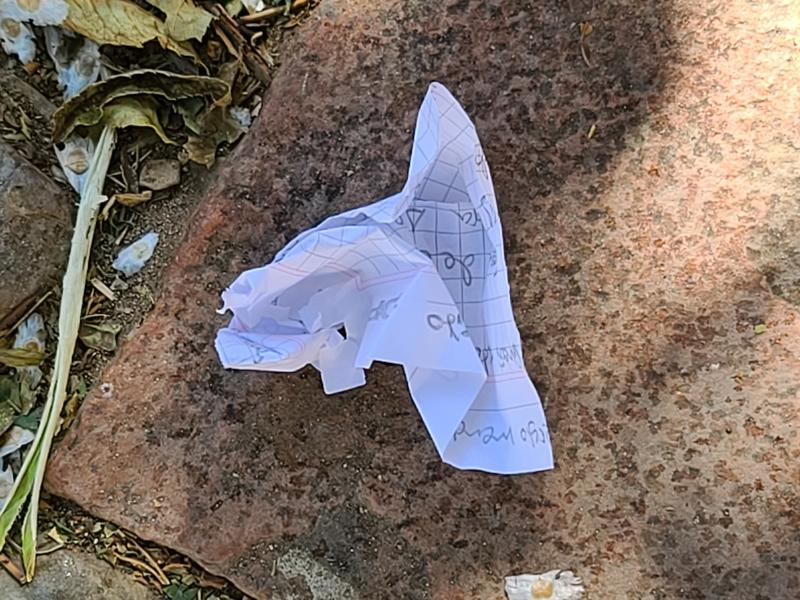papel: (214, 83, 556, 477)
